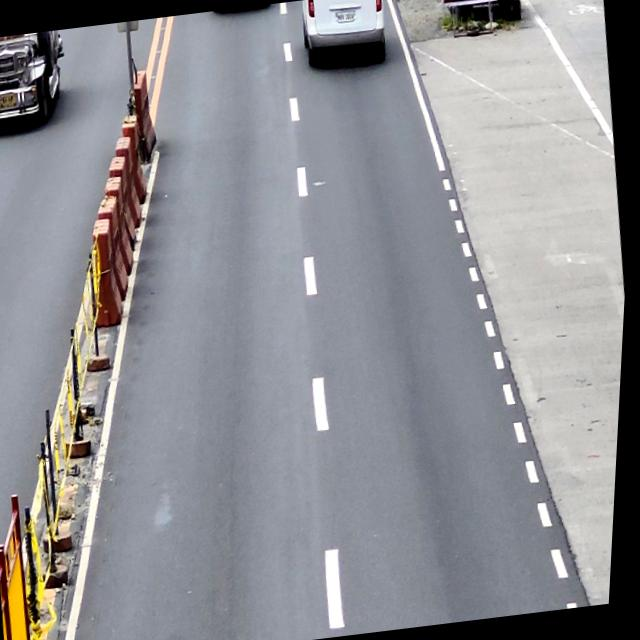Car: (297, 0, 391, 70)
License-Plate: (336, 10, 356, 24)
